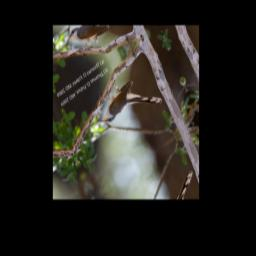Cuckoo: (89, 57, 165, 146)
